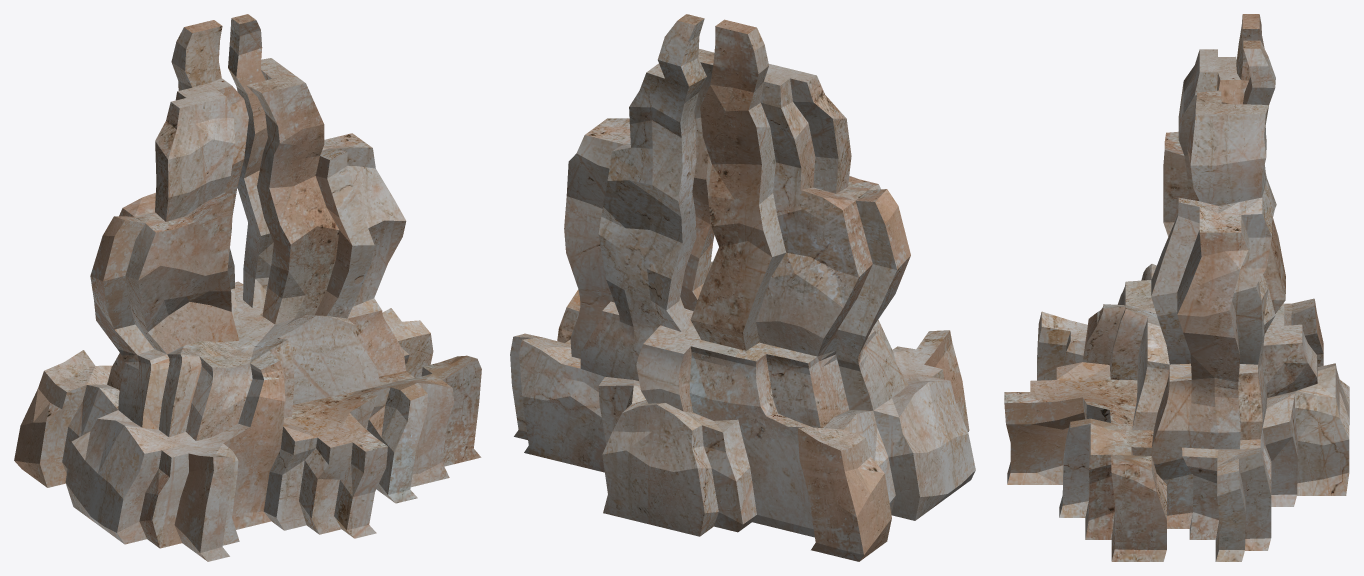
File: Mountain Sand Test4.fbx
3 renders of one model, left to right at view 1: azimuth 30°, elevation 25°; view 2: azimuth 150°, elevation 25°; view 3: azimuth 270°, elevation 25°, orthographic. The views are drawn at different scales.
Parts seen in each view (by area): view 1: Plane; view 2: Plane; view 3: Plane.
Boxes of the visible parts, <box> form: Plane: <box>14,14,481,561</box>; Plane: <box>510,14,975,561</box>; Plane: <box>1004,14,1349,561</box>.
Size of the model in its own units: 1347 by 1514 by 1084.
